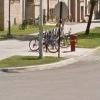Bicycle: (22, 21, 73, 55)
